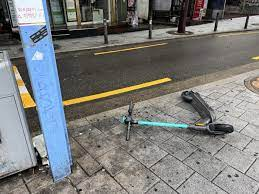fallin_kick: (121, 91, 234, 140)
